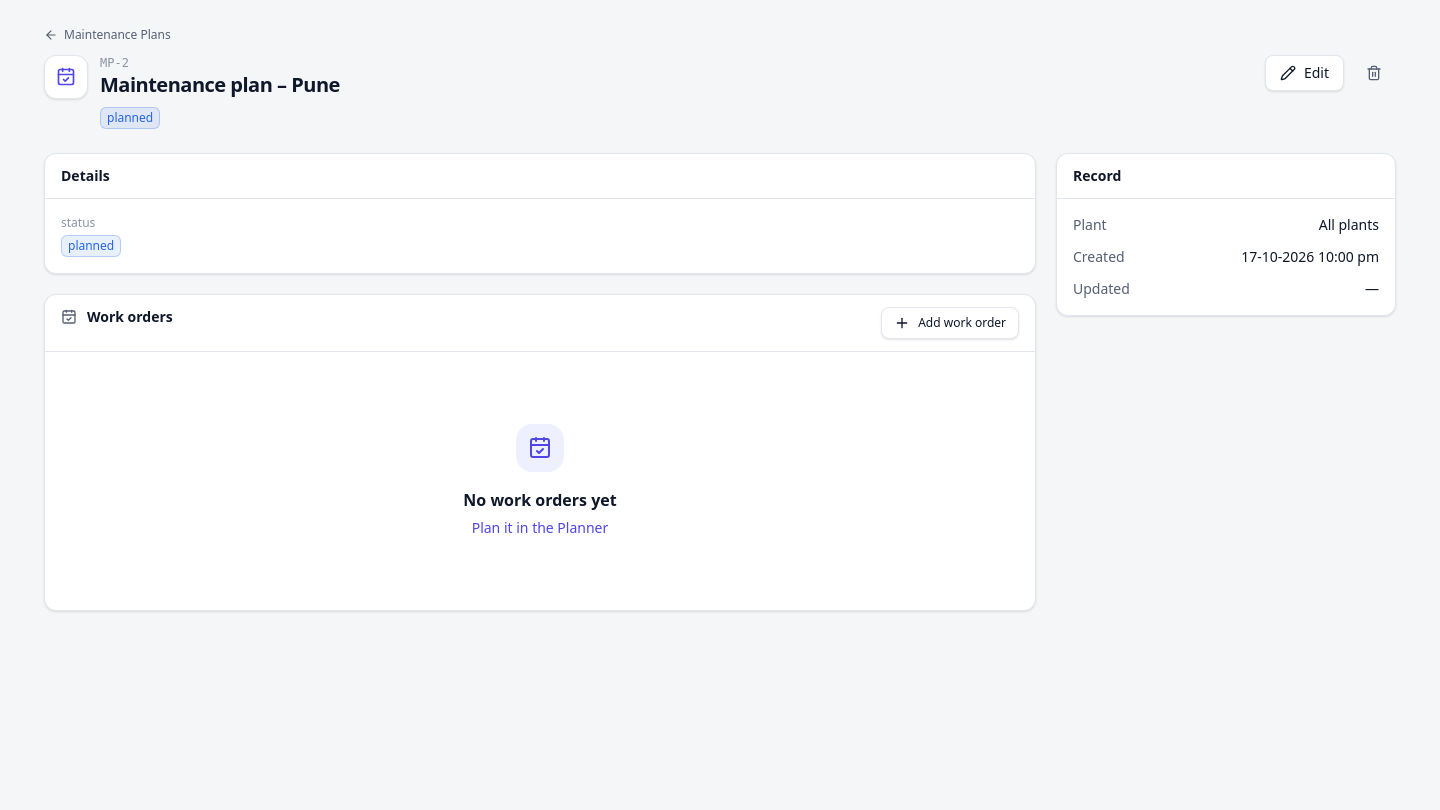
Scenario: Record page related records › pre-fills the parent on Add and shows the empty chain for a maintenance plan
Check: the heading "No work orders yet" is shown, box [463,488,617,512]
Click the button "Add work order" at (950, 323), box [881,307,1019,339]
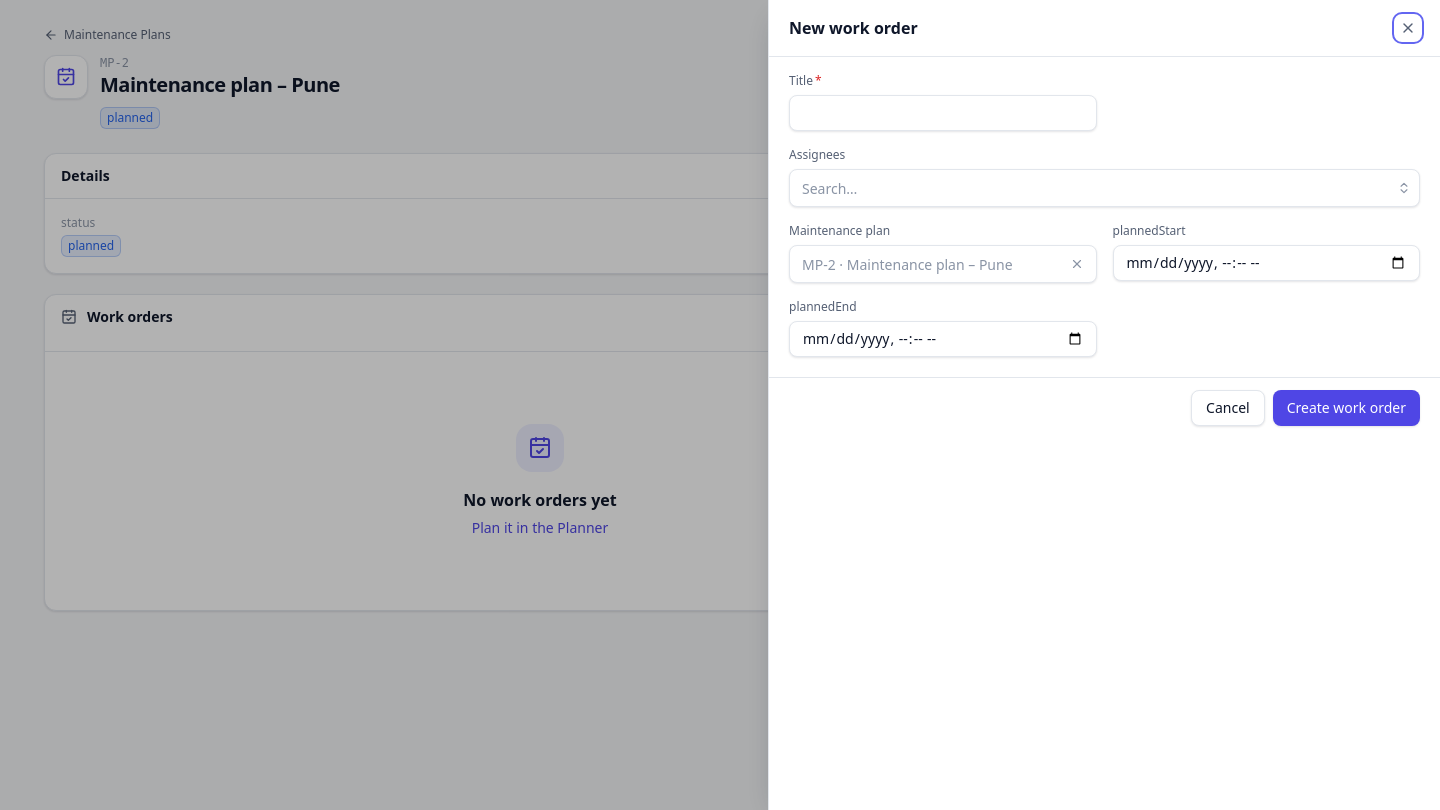
Type "Grease IMM 3" into the field labelled "Title*" at (943, 113), box [789,95,1096,131]
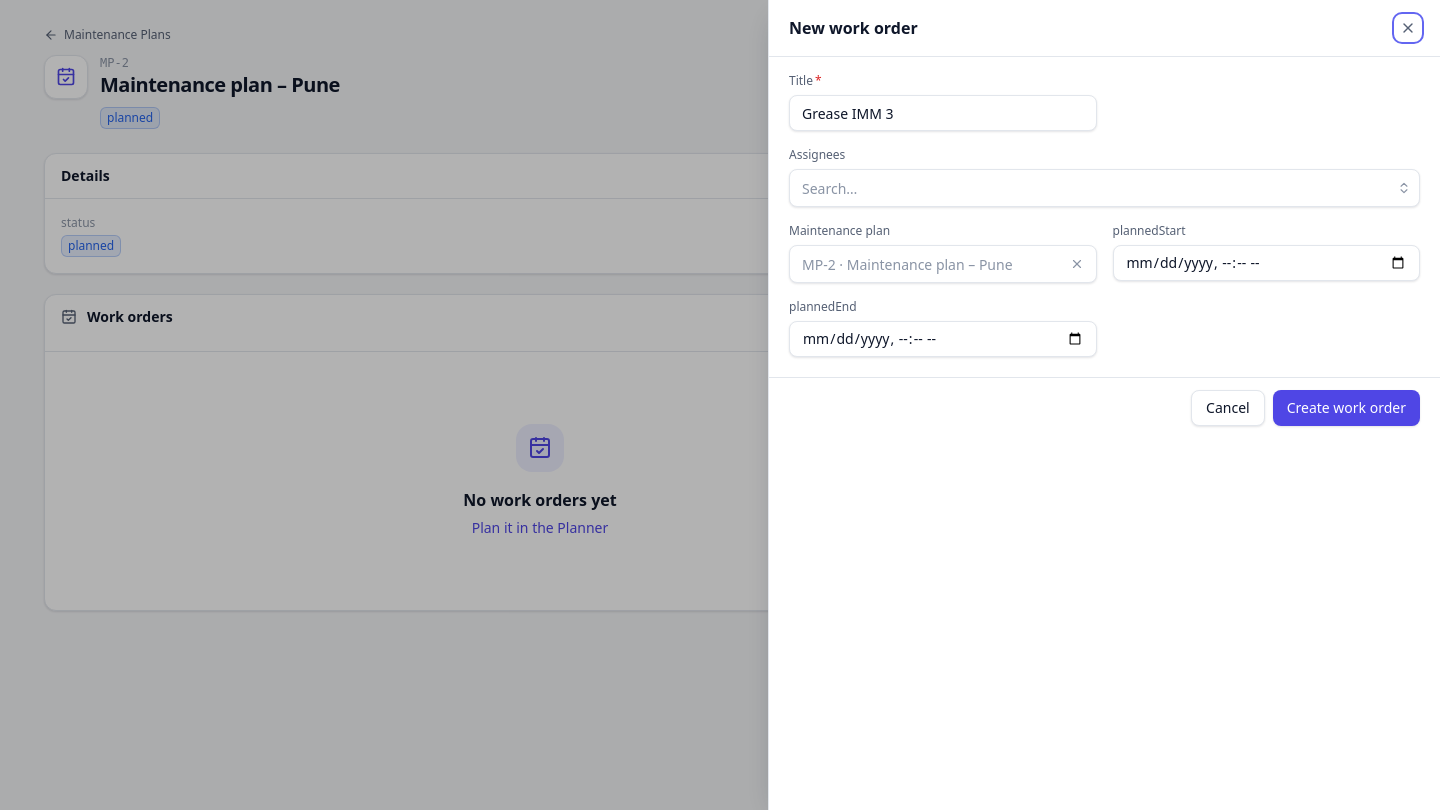
Click the button "Create work order" at (1346, 408), box [1273,390,1420,426]
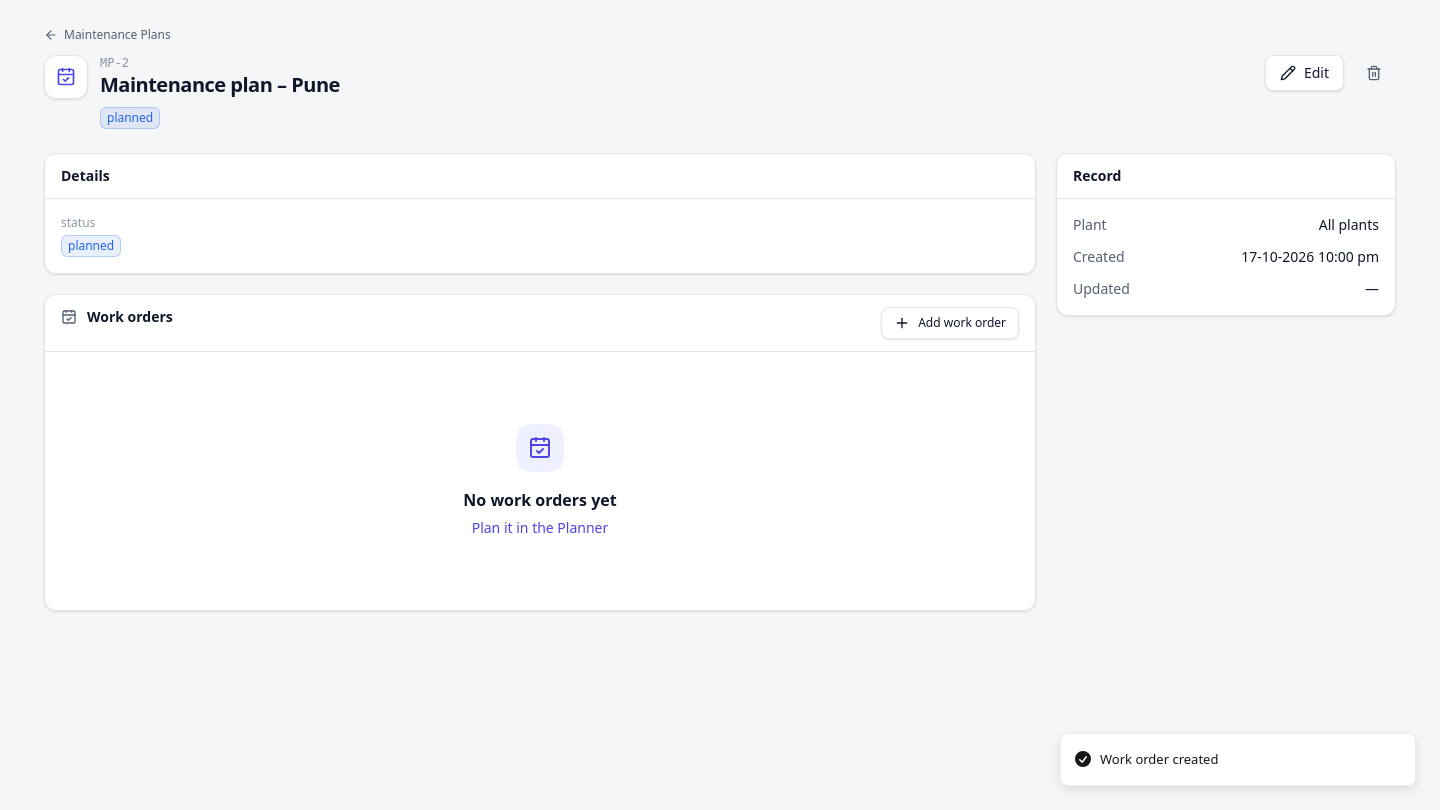
Check: the text "Work order created" is shown, box [1100,750,1218,769]
